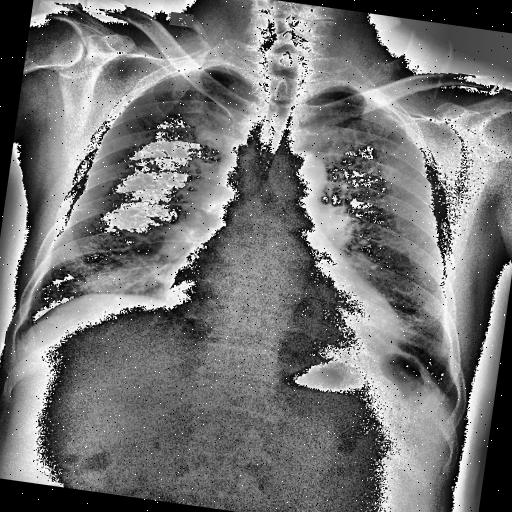3- Cardiomegaly: (156, 250, 412, 364), (156, 264, 404, 369), (156, 267, 406, 348)
